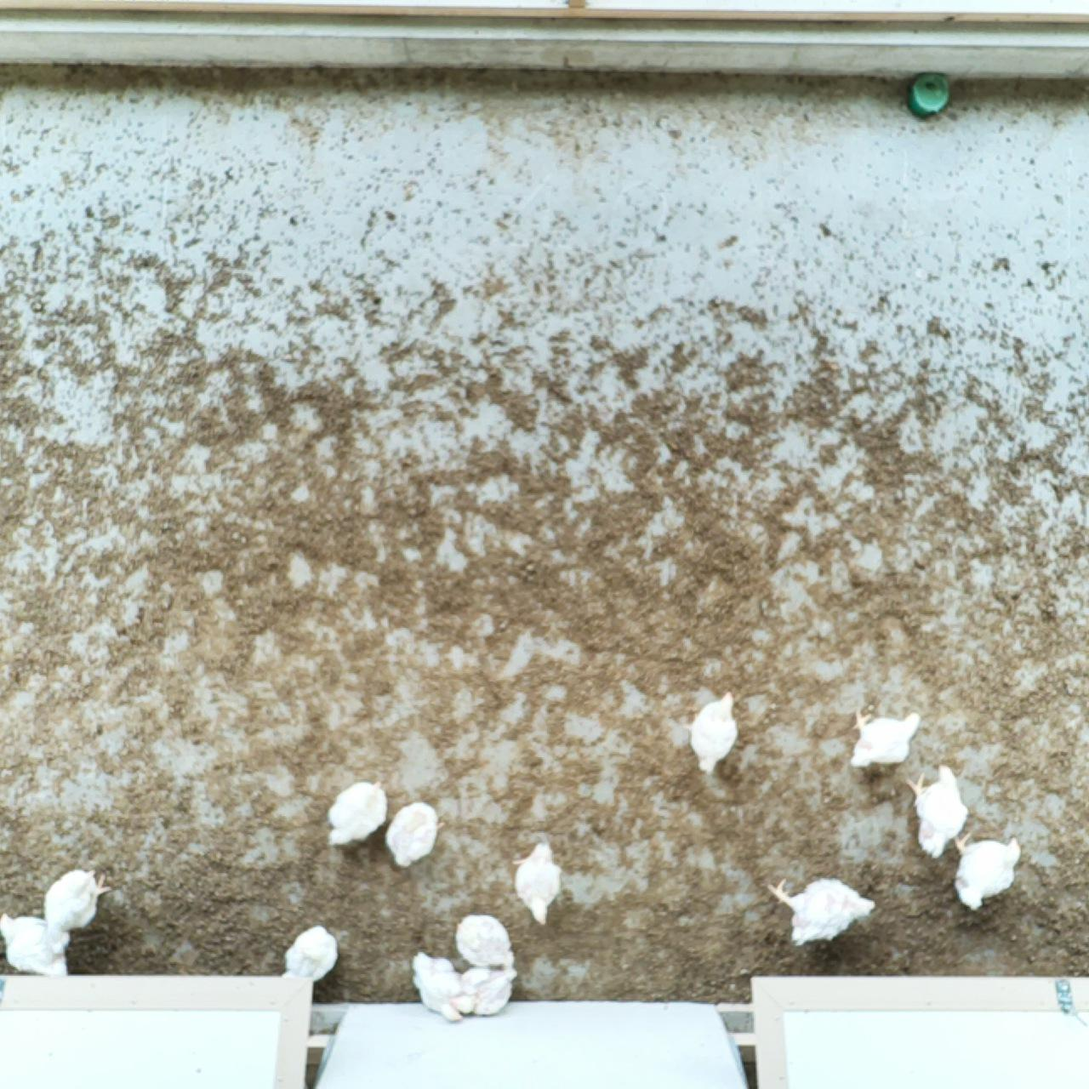chicken: (766, 874, 881, 943), (905, 763, 968, 857), (948, 834, 1022, 907), (41, 861, 113, 934), (1, 912, 69, 981), (683, 691, 739, 774), (850, 704, 921, 768), (325, 781, 389, 845), (385, 802, 448, 867), (513, 842, 560, 927), (453, 966, 522, 1018), (281, 927, 339, 986), (413, 952, 462, 1021), (458, 912, 513, 967)
